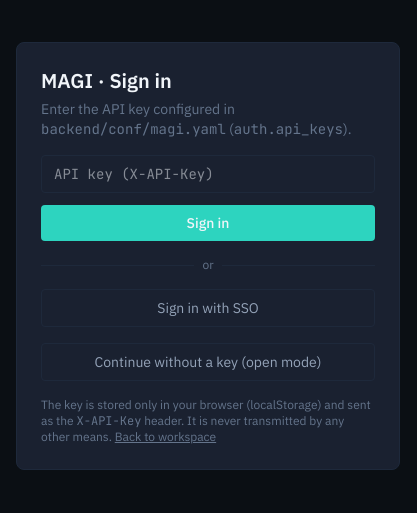
Test case: Login › does not persist a candidate key when verification fails with a network error
The image size is (417, 513).
Type "sk-candidate" into the password field labelled "API key" at (208, 174), box [41,155,375,193]
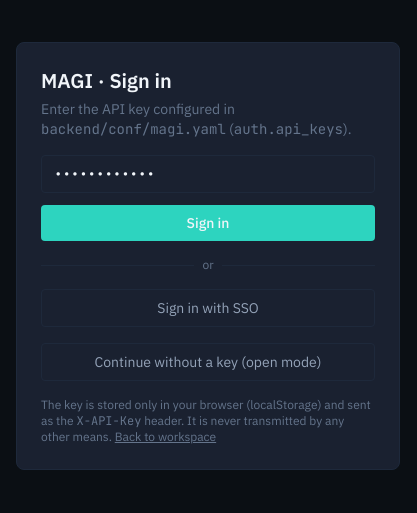
Click the button "Sign in" at (208, 223), box [41,205,375,241]
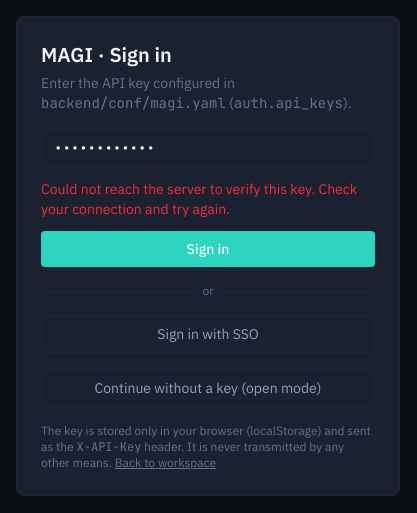
Result: the text "Could not reach the server" is shown at [41,180,357,218]
